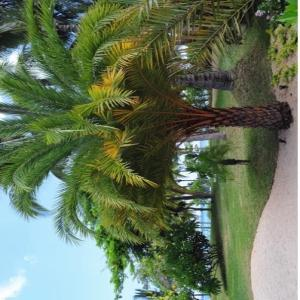palm tree: (0, 0, 293, 299)
